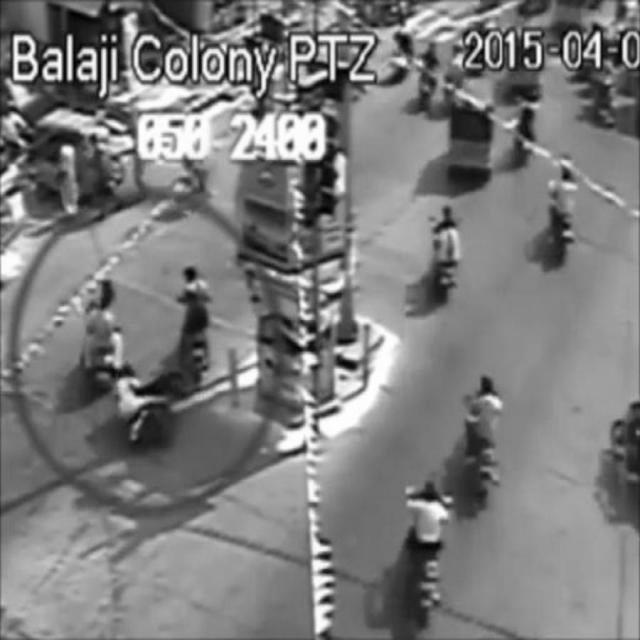vehicle: (41, 99, 134, 205), (403, 476, 447, 624), (119, 359, 174, 455), (464, 374, 504, 506), (449, 94, 496, 186), (178, 264, 208, 392), (86, 276, 116, 390), (549, 165, 579, 266), (429, 209, 459, 302)
